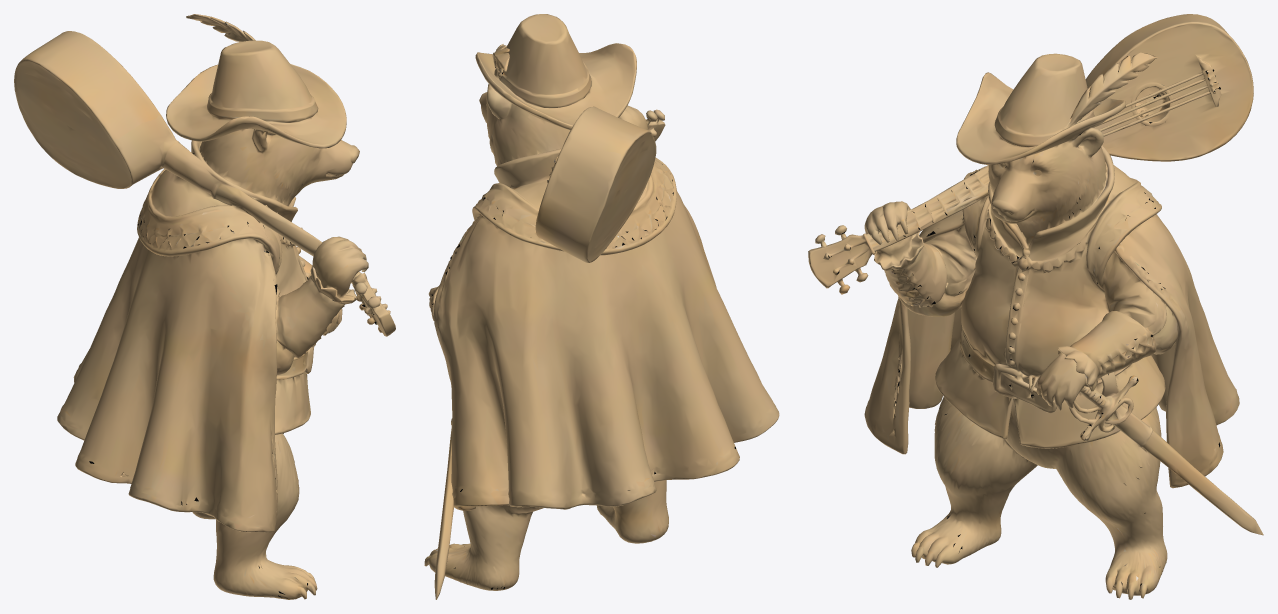
The model's file is bear-web.glb.
3 renders of one model, left to right at view 1: azimuth 30°, elevation 25°; view 2: azimuth 150°, elevation 25°; view 3: azimuth 270°, elevation 25°, orthographic. The views are drawn at different scales.
Visible parts, largest first — view 1: tripo_node_883e5e67; view 2: tripo_node_883e5e67; view 3: tripo_node_883e5e67.
Boxes of the visible parts, x1=… form: tripo_node_883e5e67: x1=14, y1=14, x2=395, y2=599; tripo_node_883e5e67: x1=424, y1=14, x2=779, y2=599; tripo_node_883e5e67: x1=808, y1=14, x2=1263, y2=599.
Bounding box in the file's own units: 0.5493 × 0.9796 × 0.7915.
Materials: 1 (1 with a texture image).
